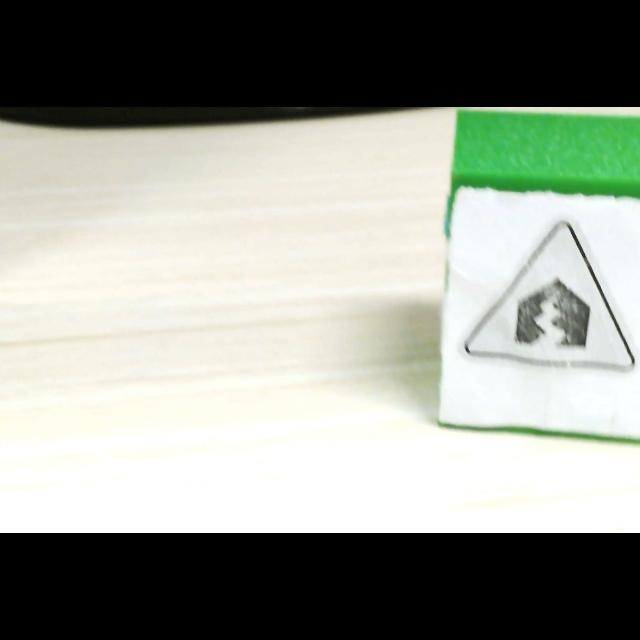Earthquake: (461, 221, 635, 373), (462, 222, 634, 368)
